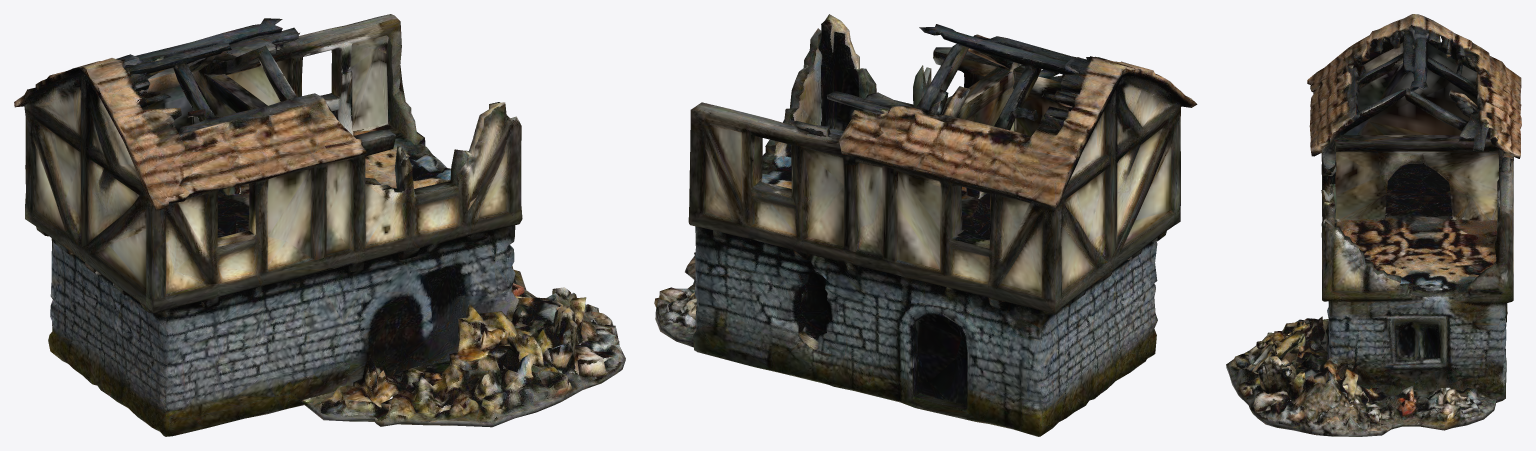
Rendered from ruined-domicile.glb.
The picture shows the model from 3 angles, left to right: view 1: azimuth 30°, elevation 25°; view 2: azimuth 150°, elevation 25°; view 3: azimuth 270°, elevation 25°; orthographic projection. The views are drawn at different scales.
Visible parts, largest first — view 1: ruined-domicile.glb; view 2: ruined-domicile.glb; view 3: ruined-domicile.glb.
Boxes of the visible parts, x1,y1,x2,y2 form: ruined-domicile.glb: (14,14,625,436); ruined-domicile.glb: (654,14,1197,436); ruined-domicile.glb: (1226,14,1521,436).
Size of the model in its own units: 1 by 0.6809 by 0.7229.
1 material, 1 textured.
